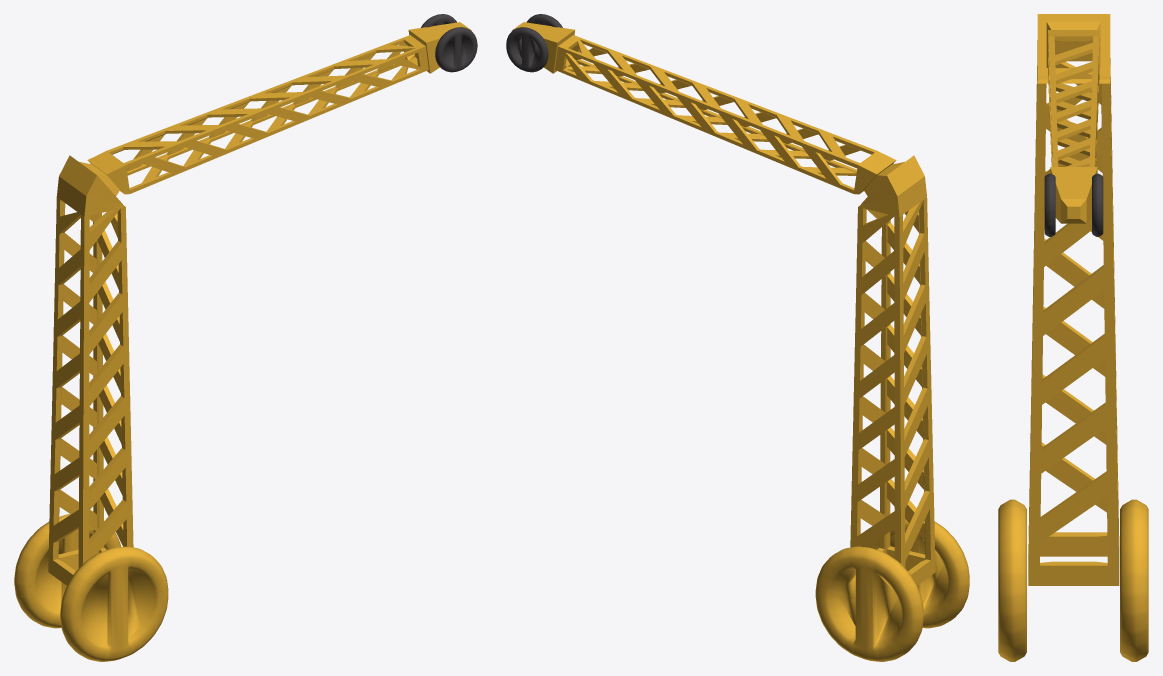
Rendered from crane.fbx.
3 views of the same model, side by side, from view 1: azimuth 30°, elevation 25°; view 2: azimuth 150°, elevation 25°; view 3: azimuth 270°, elevation 25° (orthographic). The views are drawn at different scales.
Visible parts, largest first — view 1: Crane merged; view 2: Crane merged; view 3: Crane merged.
Boxes of the visible parts, x1=… form: Crane merged: x1=14, y1=14, x2=477, y2=661; Crane merged: x1=506, y1=14, x2=969, y2=661; Crane merged: x1=998, y1=14, x2=1148, y2=661.
Size of the model in its own units: 0.4716 by 2.45 by 2.07.
